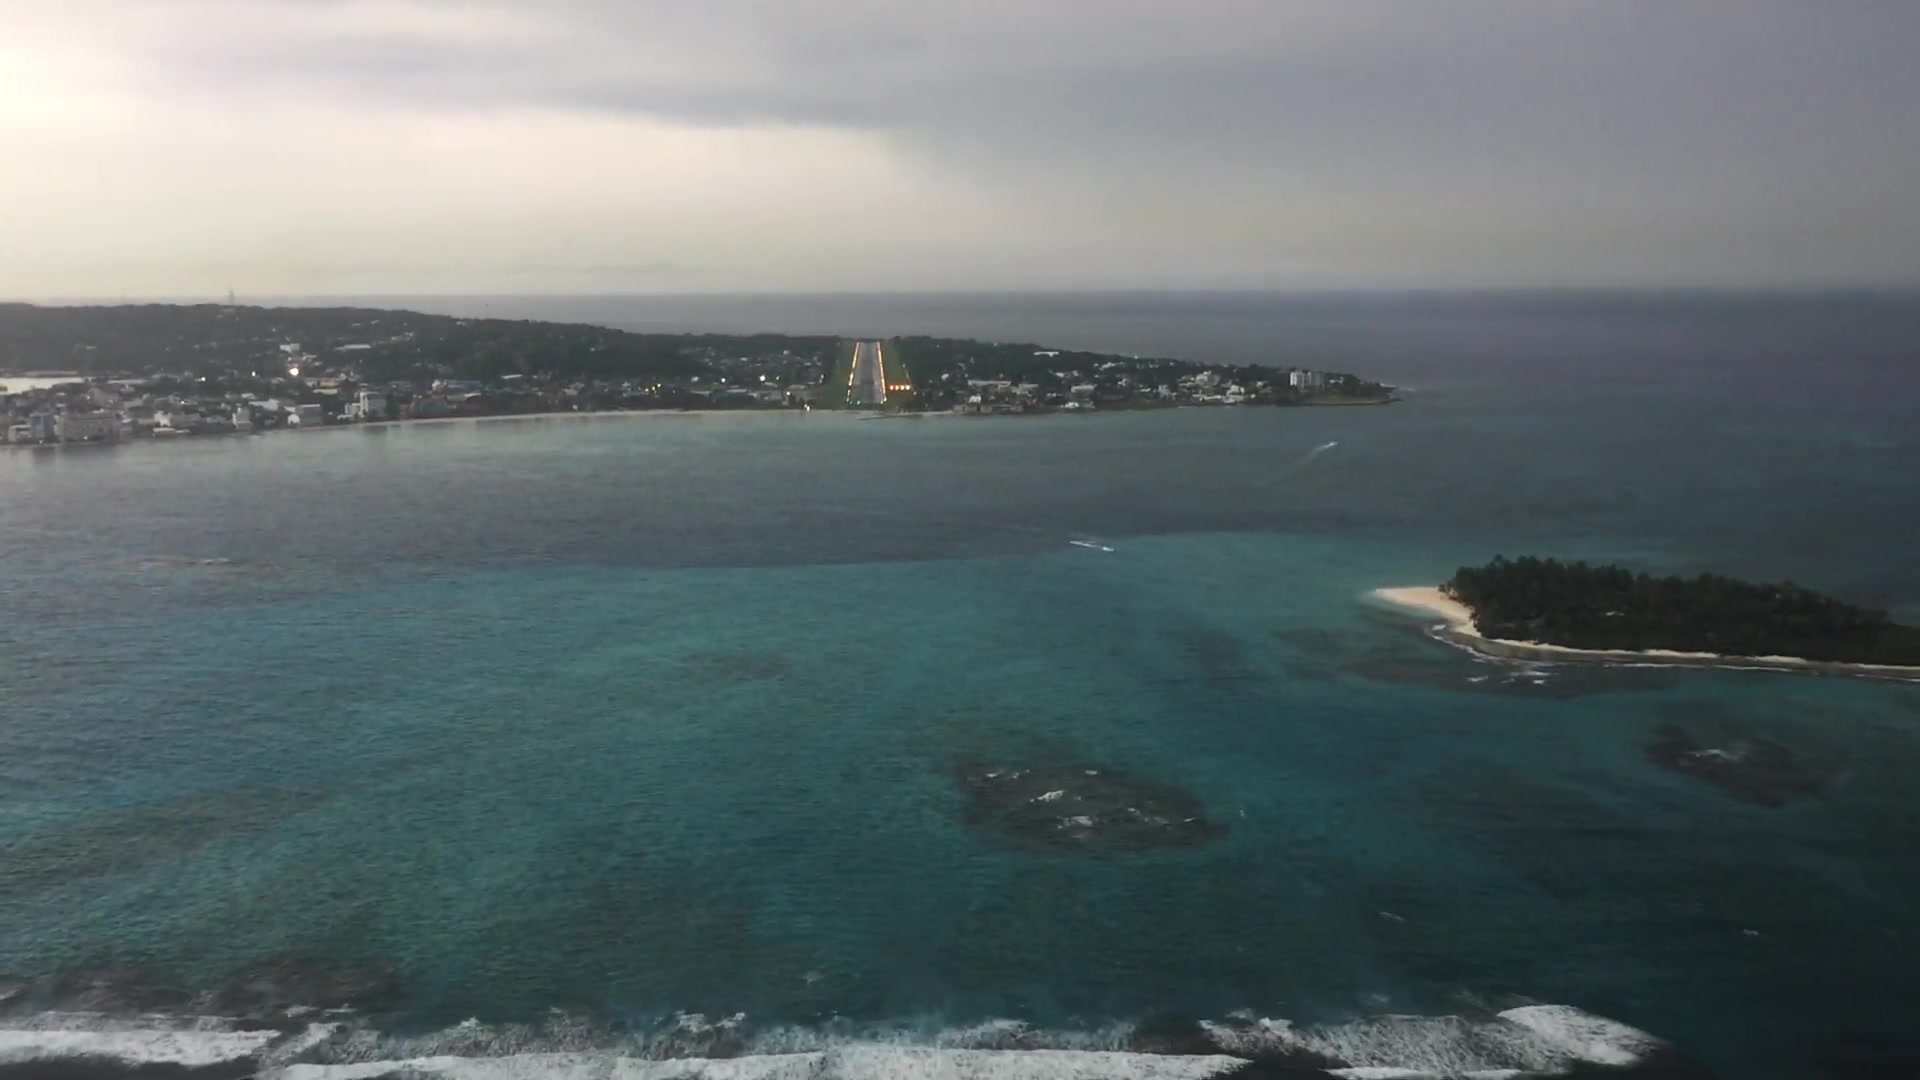runway: (844, 340, 889, 404)
